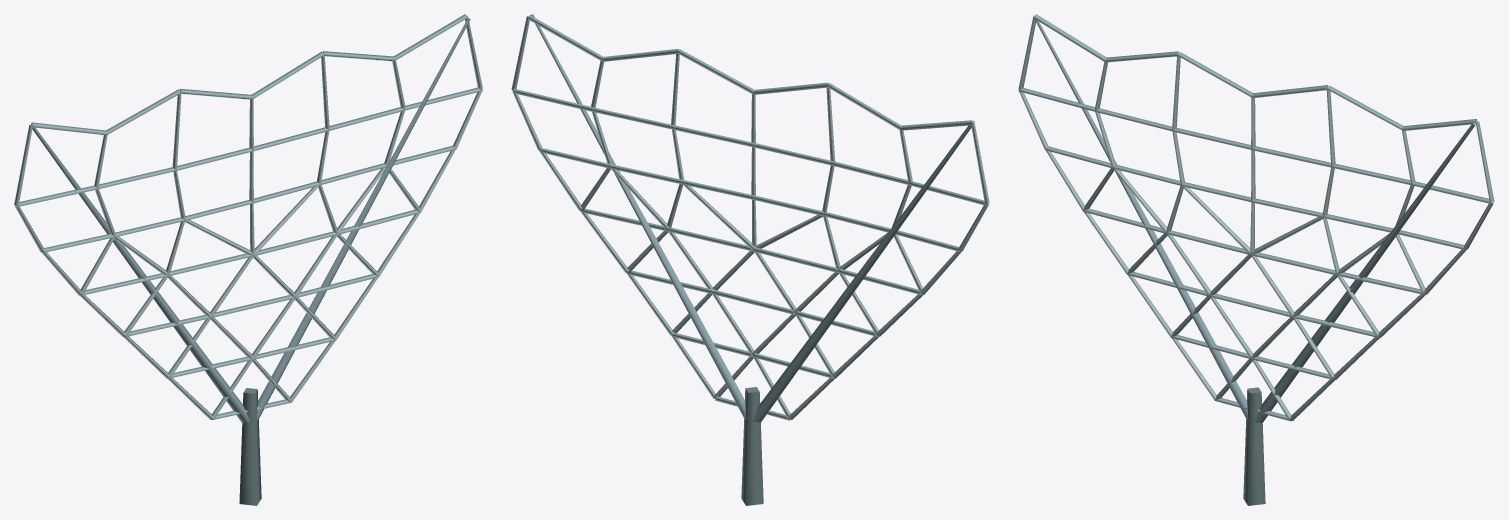
Rendered from glass-fan.glb.
3 views of the same model, side by side, from view 1: azimuth 30°, elevation 25°; view 2: azimuth 150°, elevation 25°; view 3: azimuth 330°, elevation 25° (orthographic).
Parts seen in each view (by area): view 1: glass-fan; view 2: glass-fan; view 3: glass-fan.
Part boxes in pixels (x1,y1,x2,y2): glass-fan: (14, 14, 482, 505); glass-fan: (511, 14, 989, 505); glass-fan: (1018, 14, 1494, 505).
Size of the model in its own units: 1.6 by 1.4 by 0.0753.
